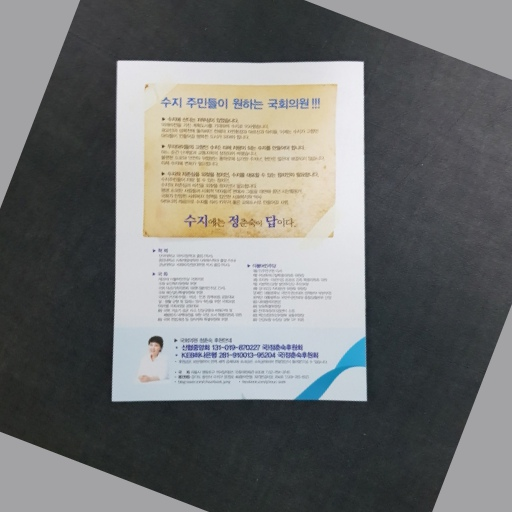Paper_2: (108, 51, 383, 416)
